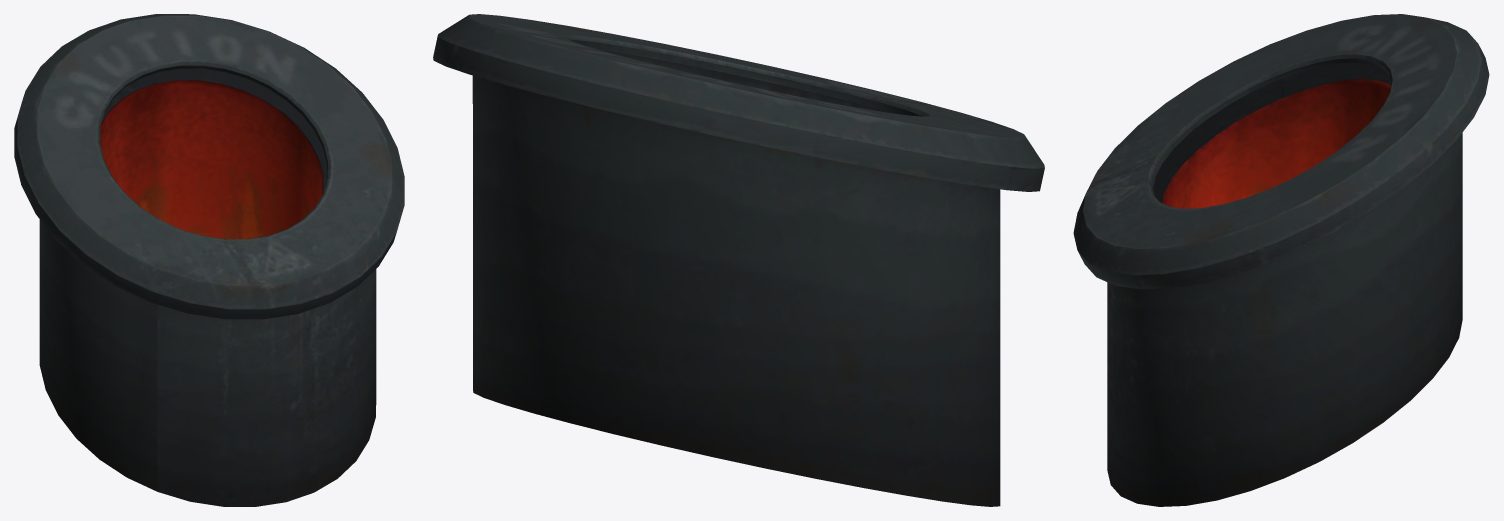
The model's file is incinerator.glb.
The picture shows the model from 3 angles, left to right: view 1: azimuth 30°, elevation 25°; view 2: azimuth 150°, elevation 25°; view 3: azimuth 270°, elevation 25°; orthographic projection. The views are drawn at different scales.
Parts seen in each view (by area): view 1: glados_aperturedoor.029; view 2: glados_aperturedoor.029; view 3: glados_aperturedoor.029.
Boxes of the visible parts, bbox=[...] form: glados_aperturedoor.029: bbox=[14, 14, 404, 506]; glados_aperturedoor.029: bbox=[433, 14, 1044, 506]; glados_aperturedoor.029: bbox=[1073, 14, 1489, 506].
Size of the model in its own units: 2 by 2.04 by 1.84.
1 material, 1 textured.
